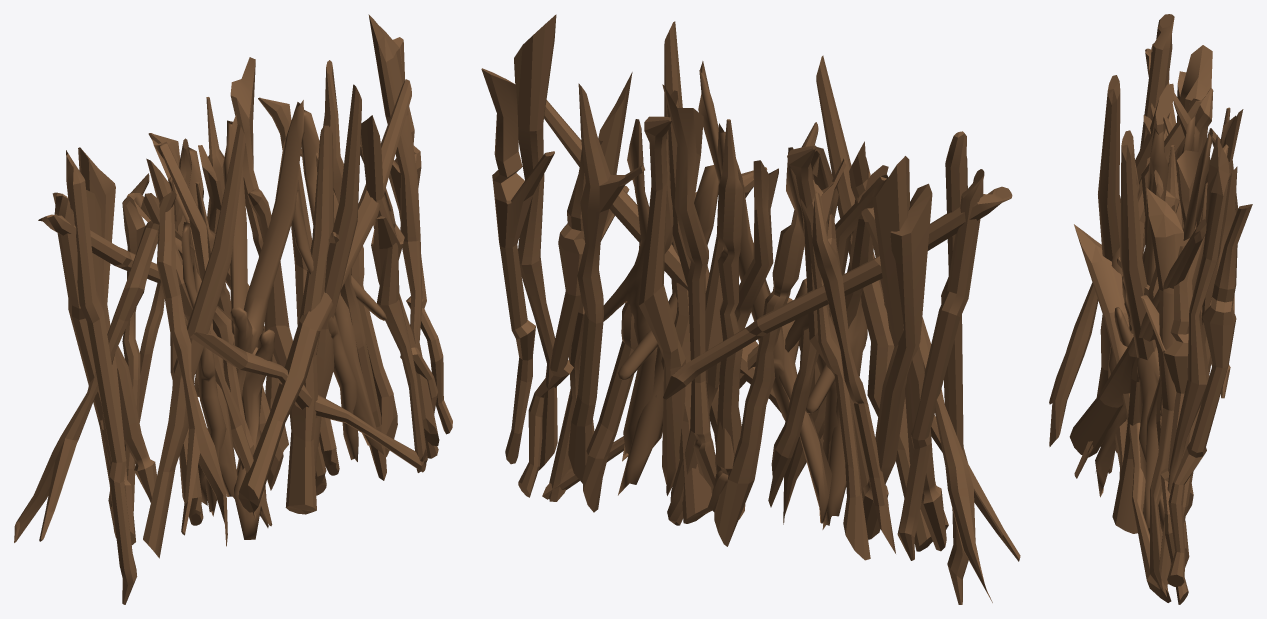
Rendered from WallofSticks.fbx.
The picture shows the model from 3 angles, left to right: view 1: azimuth 30°, elevation 25°; view 2: azimuth 150°, elevation 25°; view 3: azimuth 270°, elevation 25°; orthographic projection. The views are drawn at different scales.
Parts seen in each view (by area): view 1: pCylinder65, pCylinder61, pCylinder48, pCylinder51, pCylinder47, pCylinder45, pCube7, pCylinder62, pCylinder38, pCylinder55, pCube10, pCylinder64 (+23 smaller); view 2: pCylinder39, pCylinder45, pCylinder44, pCylinder53, pCylinder54, pCylinder40, pCylinder41, pCylinder59, pCylinder46, pCylinder65, pCylinder43, pCylinder63 (+24 smaller); view 3: pCylinder39, pCylinder45, pCylinder55, pCylinder64, pCylinder61, pCylinder38, pCylinder50, pCylinder65, pCylinder47, pCylinder51, pCube10, pCylinder48 (+17 smaller).
Part boxes in pixels (left/top/right/bottom): pCylinder65: left=143, top=124, right=245, bottom=558; pCylinder61: left=238, top=79, right=411, bottom=512; pCylinder48: left=66, top=150, right=137, bottom=604; pCylinder51: left=285, top=125, right=334, bottom=514; pCylinder47: left=146, top=158, right=227, bottom=546; pCylinder45: left=368, top=14, right=439, bottom=445; pCube7: left=198, top=100, right=304, bottom=505; pCylinder62: left=14, top=191, right=176, bottom=542; pCylinder38: left=313, top=84, right=361, bottom=475; pCylinder55: left=360, top=115, right=427, bottom=472; pCube10: left=222, top=114, right=274, bottom=539; pCylinder64: left=190, top=332, right=426, bottom=472; pCylinder39: left=481, top=68, right=554, bottom=464; pCylinder45: left=514, top=14, right=557, bottom=470; pCylinder44: left=568, top=83, right=644, bottom=483; pCylinder53: left=862, top=183, right=932, bottom=539; pCylinder54: left=897, top=169, right=984, bottom=560; pCylinder40: left=662, top=84, right=716, bottom=489; pCylinder41: left=639, top=116, right=685, bottom=495; pCylinder59: left=714, top=209, right=804, bottom=546; pCylinder46: left=872, top=156, right=946, bottom=551; pCylinder65: left=816, top=55, right=948, bottom=551; pCylinder43: left=711, top=119, right=744, bottom=494; pCylinder63: left=663, top=186, right=1012, bottom=399; pCylinder39: left=1167, top=204, right=1252, bottom=586; pCylinder45: left=1159, top=135, right=1229, bottom=585; pCylinder55: left=1146, top=188, right=1183, bottom=596; pCylinder64: left=1074, top=224, right=1171, bottom=602; pCylinder61: left=1069, top=219, right=1206, bottom=457; pCylinder38: left=1120, top=130, right=1156, bottom=533; pCylinder50: left=1141, top=238, right=1203, bottom=604; pCylinder65: left=1096, top=75, right=1120, bottom=445; pCylinder47: left=1049, top=83, right=1174, bottom=446; pCylinder51: left=1112, top=170, right=1163, bottom=533; pCube10: left=1095, top=132, right=1211, bottom=497; pCylinder48: left=1100, top=14, right=1174, bottom=473.
Bounding box in the file's own units: 13.96 × 14.91 × 5.67.
